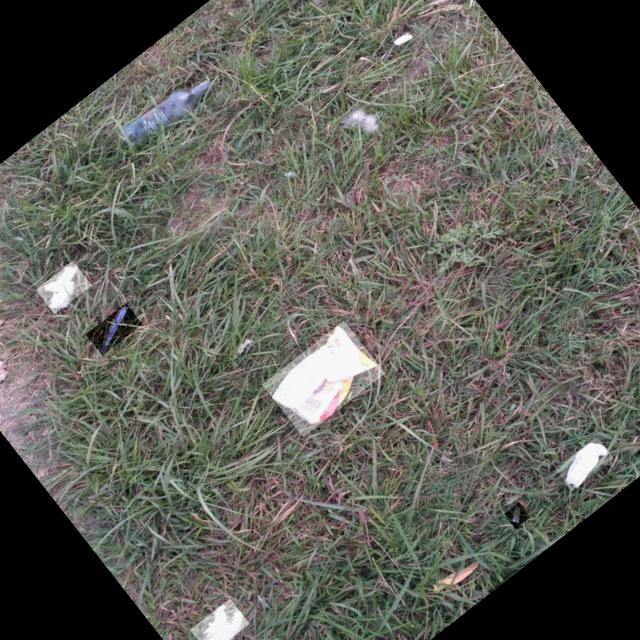Crisp packet: (273, 326, 379, 425)
Glass bottle: (124, 79, 211, 144)
Plastic film: (566, 444, 608, 487), (99, 307, 129, 354), (512, 505, 522, 525)
Unlabeled litter: (44, 267, 79, 308), (205, 606, 241, 640), (395, 34, 412, 45)
